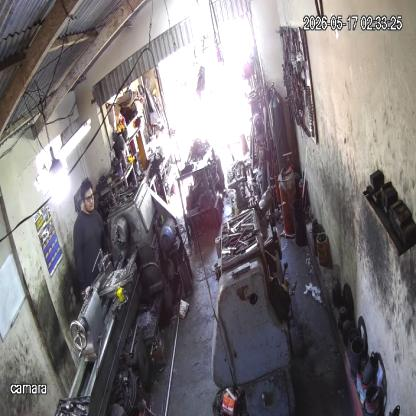lentes: (83, 193, 95, 207)
